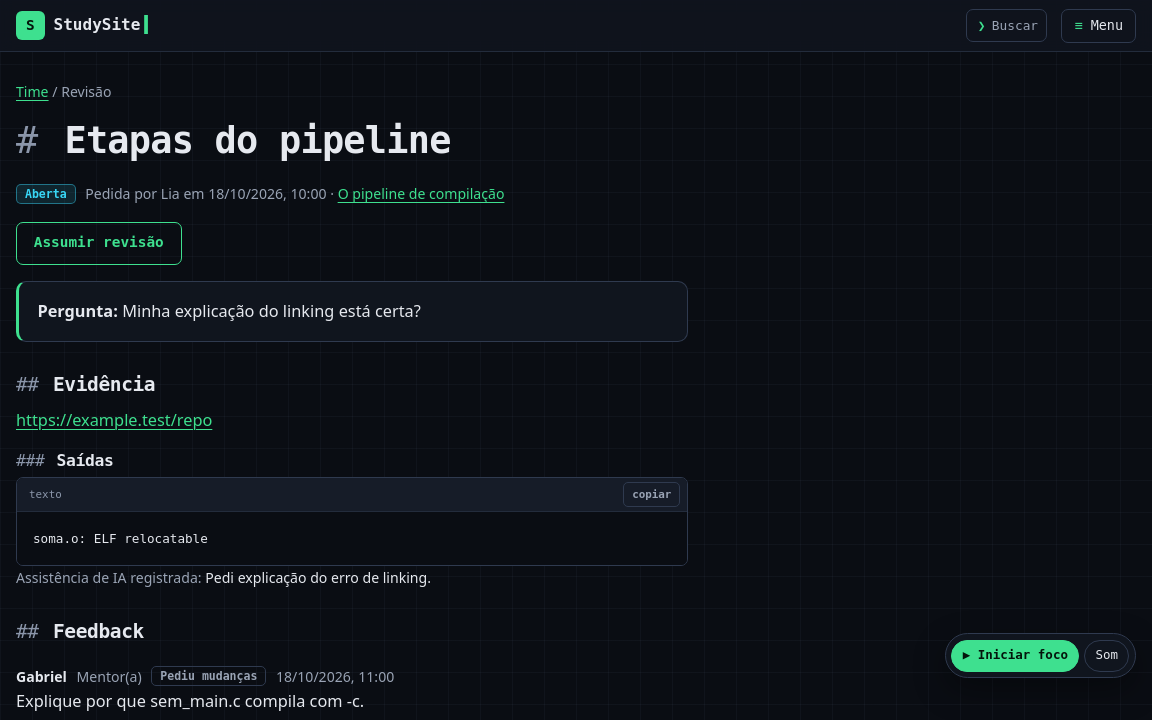
Test case: revisão › permite assumir a revisão quando ninguém assumiu
Click the button "Assumir revisão". click: (99, 243)
box: [16, 222, 182, 265]
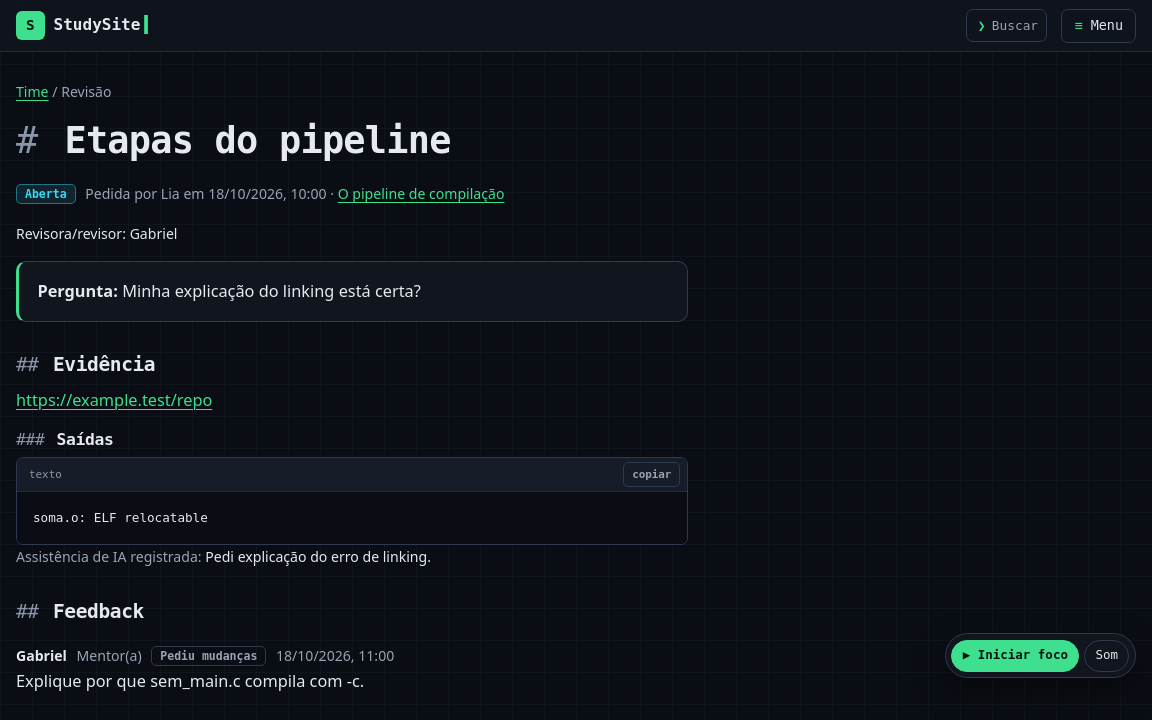
Expected: the text "Revisora/revisor: Gabriel" is shown, [16, 224, 178, 243]
